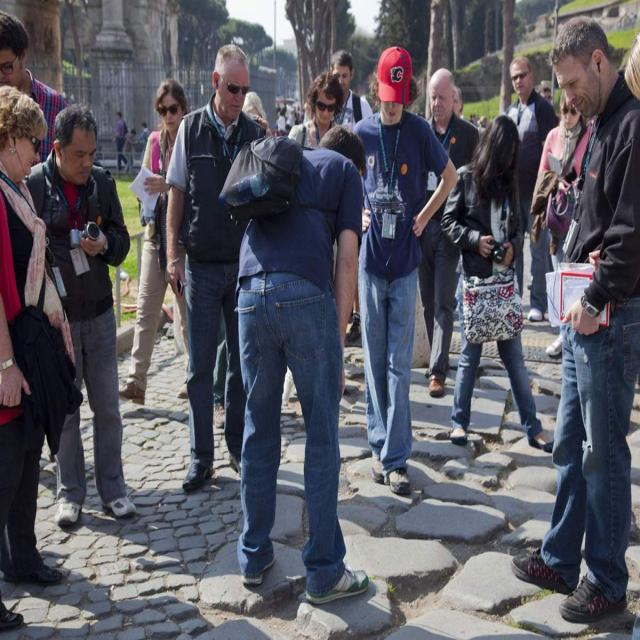body: (507, 13, 640, 626), (232, 123, 370, 606), (19, 100, 137, 526), (348, 44, 455, 501), (165, 42, 272, 498), (0, 85, 85, 634), (439, 115, 566, 451), (117, 77, 191, 405), (414, 67, 481, 399), (528, 87, 595, 357), (503, 55, 559, 323), (0, 11, 70, 170), (286, 70, 345, 150), (240, 72, 306, 136), (329, 47, 374, 131), (213, 308, 230, 439), (454, 86, 499, 126), (624, 34, 640, 105), (114, 111, 128, 171), (123, 128, 138, 174), (138, 120, 152, 167), (537, 79, 555, 99)
